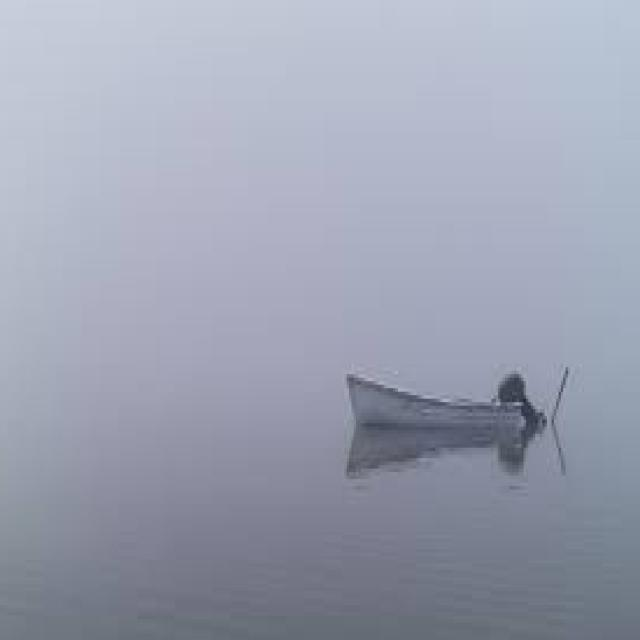fishing boat: (340, 355, 560, 440)
